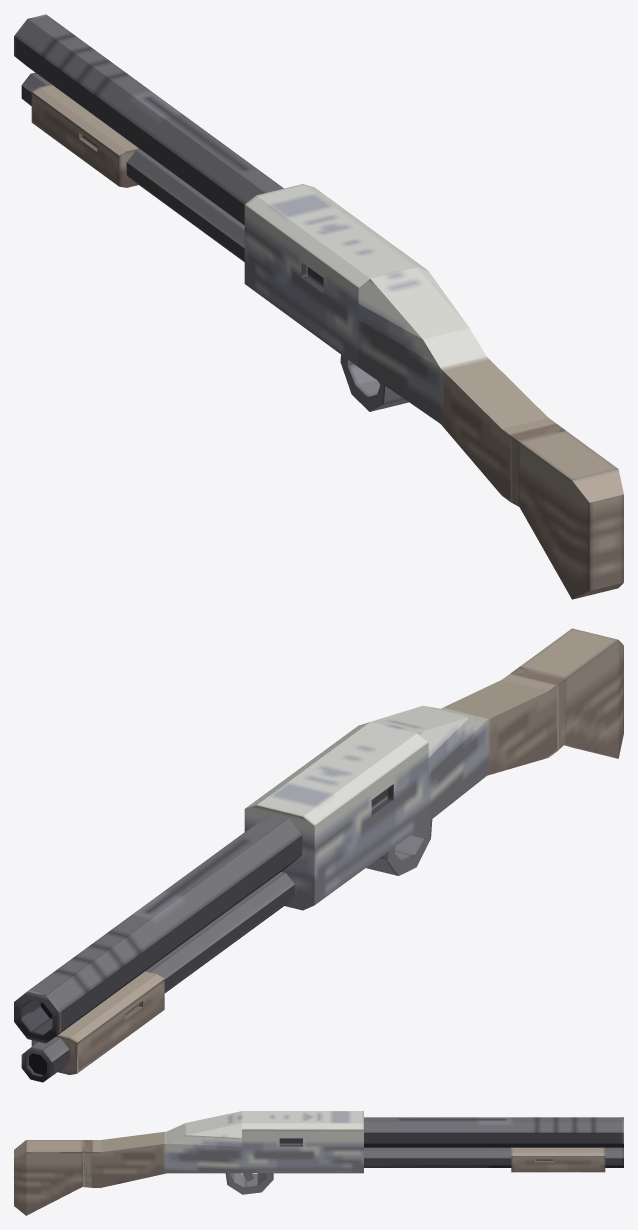
File: Shotgun.fbx
The picture shows the model from 3 angles, top to bottom: view 1: azimuth 30°, elevation 25°; view 2: azimuth 150°, elevation 25°; view 3: azimuth 270°, elevation 25°; orthographic projection. The views are drawn at different scales.
Visible parts, largest first — view 1: cuboid, tube, cuboid_3, tube_1, tube_2; view 2: cuboid, tube, tube_1, cuboid_3, tube_2; view 3: cuboid, tube, tube_1, cuboid_3, tube_2.
Boxes of the visible parts, <box> form: cuboid: <box>244,184,623,599</box>; tube: <box>14,14,283,225</box>; cuboid_3: <box>31,84,140,187</box>; tube_1: <box>21,72,244,261</box>; tube_2: <box>340,355,408,411</box>; cuboid: <box>244,628,623,910</box>; tube: <box>14,813,302,1043</box>; tube_1: <box>21,872,294,1082</box>; cuboid_3: <box>31,971,164,1074</box>; tube_2: <box>366,819,432,875</box>; cuboid: <box>14,1111,363,1215</box>; tube: <box>364,1117,623,1147</box>; tube_1: <box>364,1147,623,1167</box>; cuboid_3: <box>511,1147,605,1172</box>; tube_2: <box>225,1173,273,1194</box>.
Size of the model in its own units: 28.75 by 68.12 by 406.
1 material, 1 textured.
